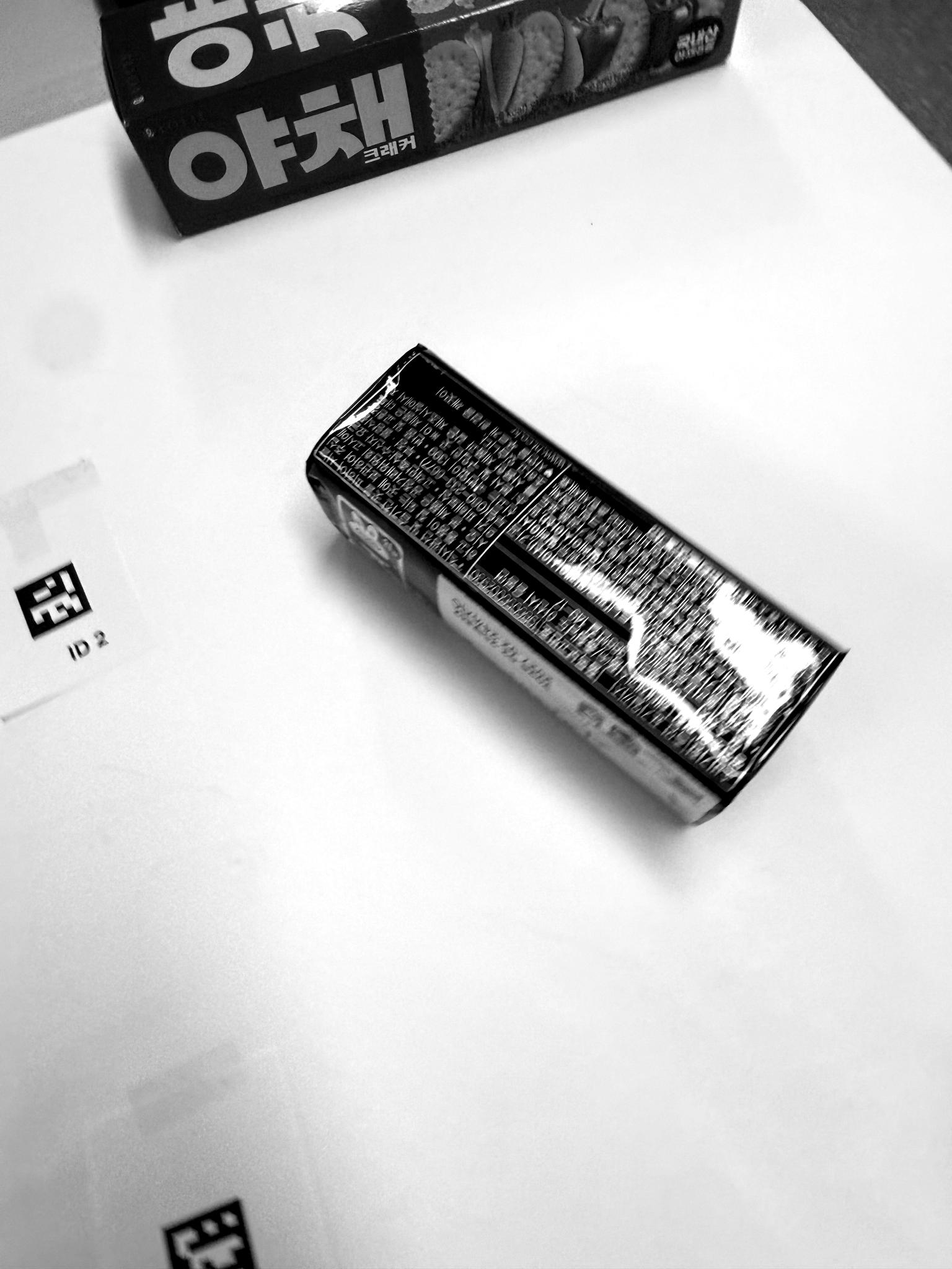cracker_ace: (307, 347, 844, 822)
cracker_vege: (101, 0, 740, 234)
